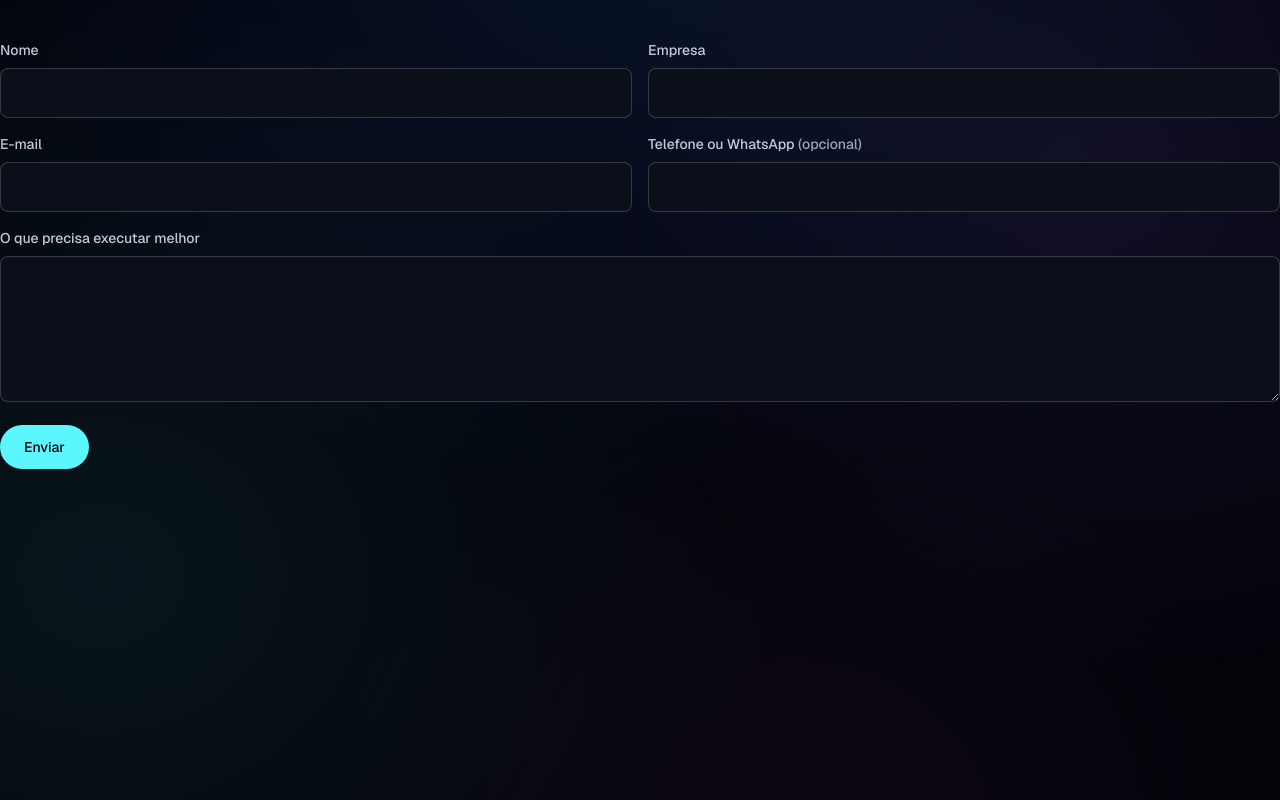
Test: formulário de contato › valida formato de e-mail
Type "Jonas" into the field labelled "Nome" at (316, 93), box [0,68,632,118]
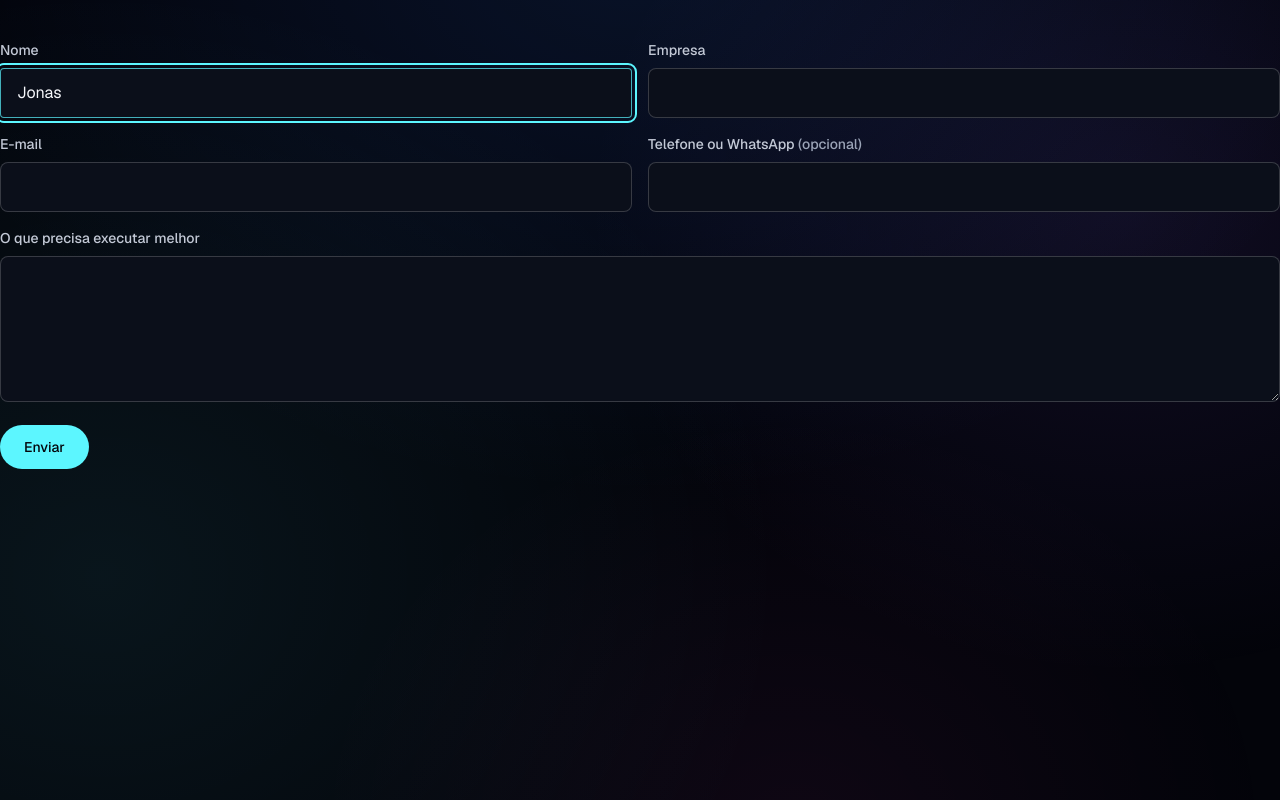
Type "Empresa" into the field labelled "Empresa" at (964, 93), box [648,68,1279,118]
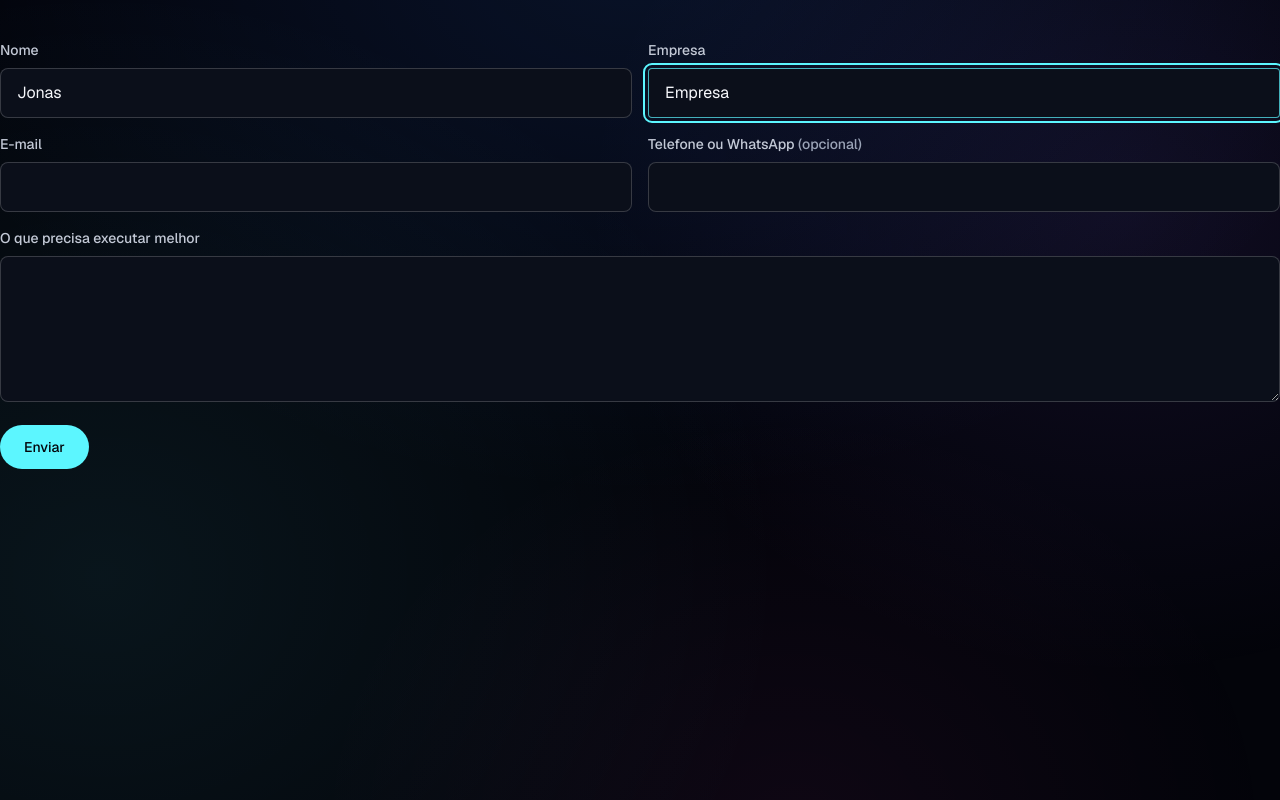
Type "invalido" into the field labelled "E-mail" at (316, 187), box [0,162,632,212]
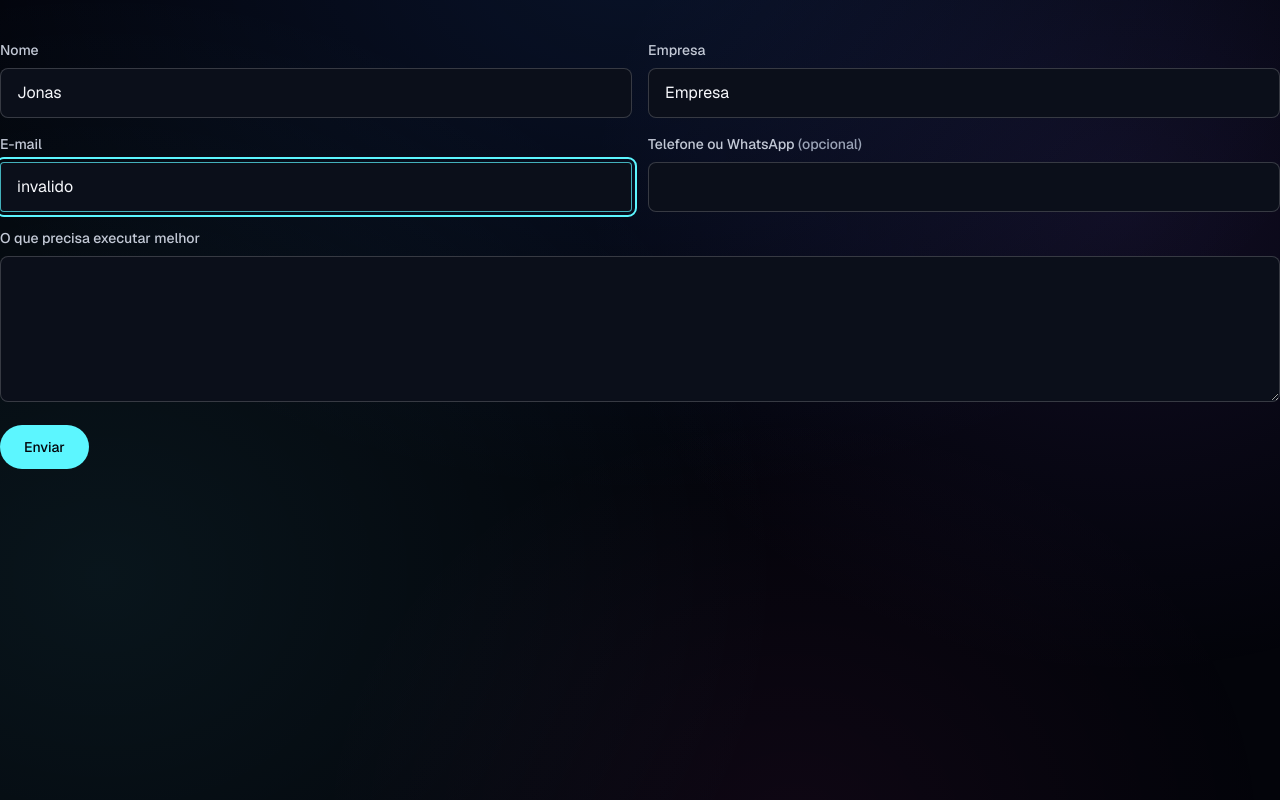
Type "Precisamos automatizar a triagem de atendimento." into the text box labelled "O que precisa executar melhor" at (640, 329), box [0,256,1279,402]
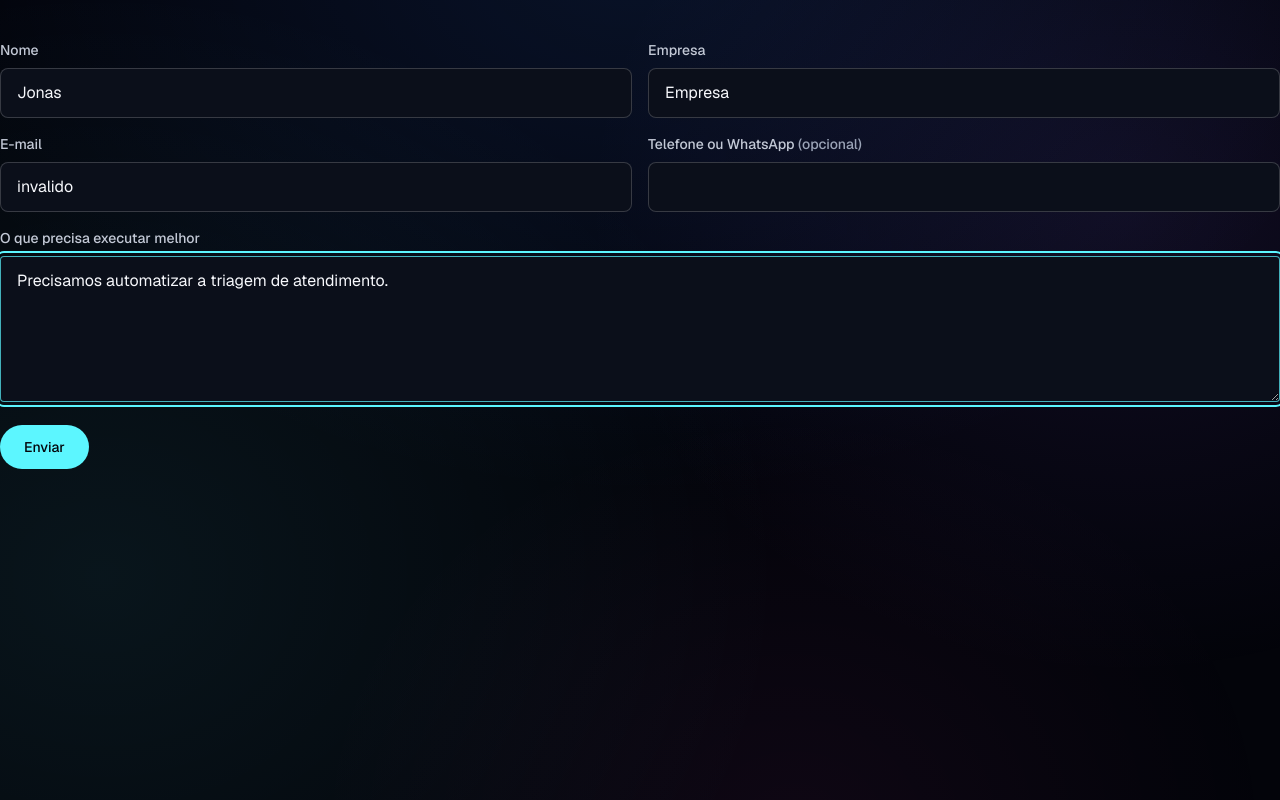
Click the button "Enviar" at (44, 447), box [0,425,89,469]
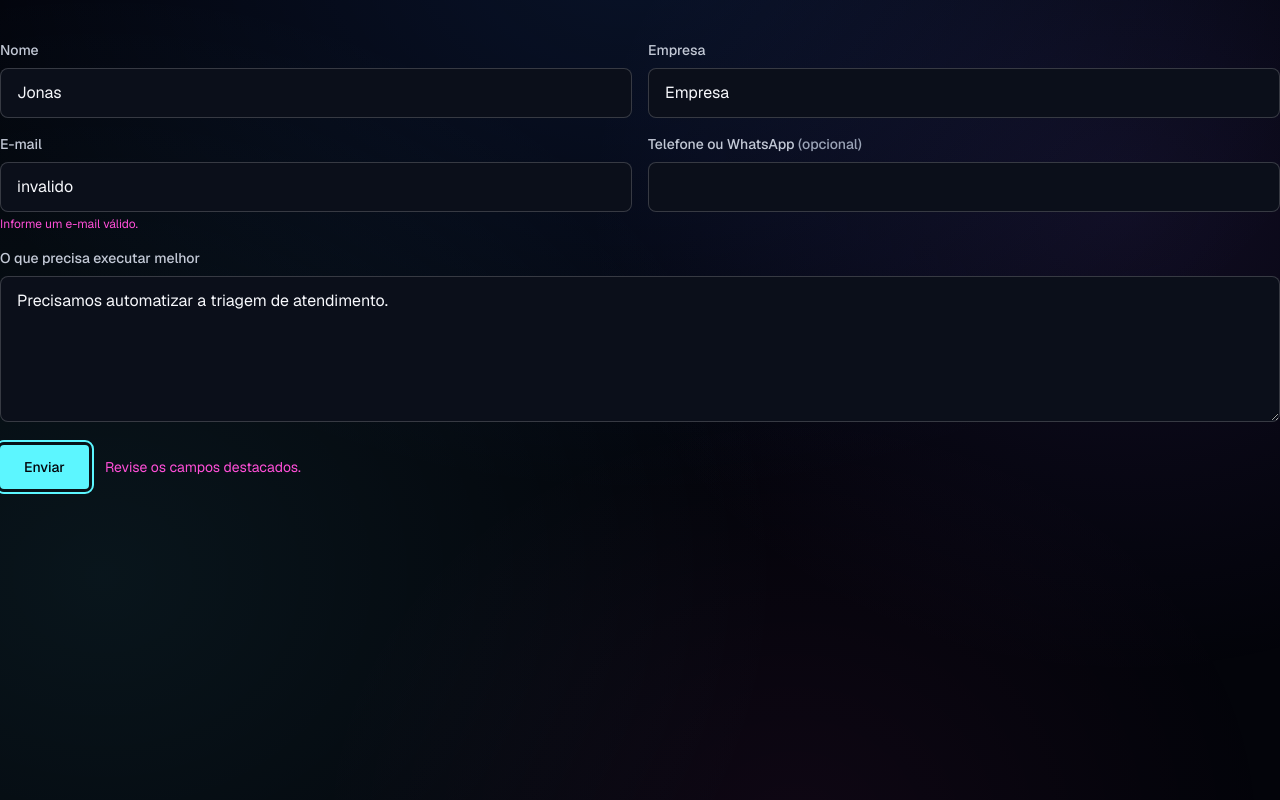
Check: the text "Informe um e-mail válido." is shown, box [0,216,138,232]
